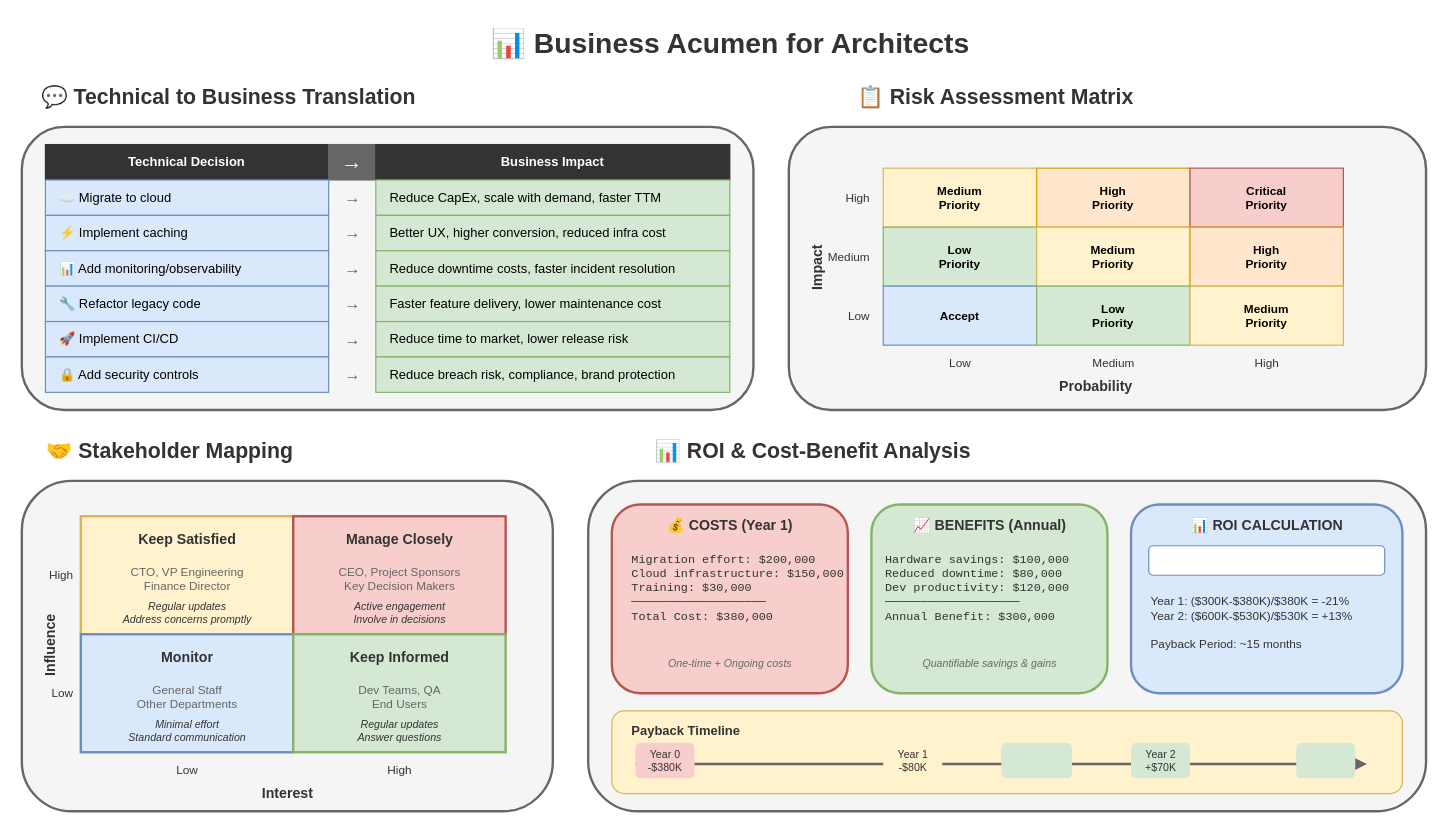
Image size: 1447x832. Some labels were removed from this diagram. The centre of each missing label's shape, as x and y in pixels:
"Break-even ~15mo" goes at [1036,760].
"ROI = (Benefits - Costs) / Costs" goes at [1266,560].
"Year 3 +$370K" goes at [1325,760].
